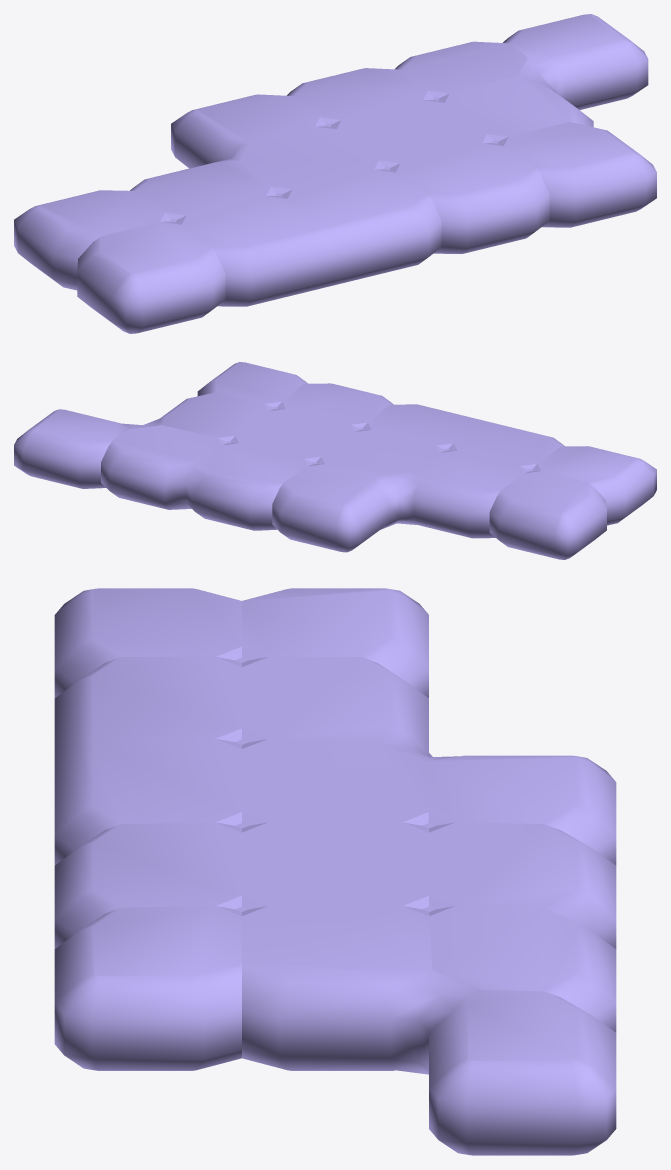
File: BG_cloud13.fbx
The picture shows the model from 3 angles, top to bottom: view 1: azimuth 30°, elevation 25°; view 2: azimuth 150°, elevation 25°; view 3: azimuth 270°, elevation 25°; orthographic projection. The views are drawn at different scales.
Parts seen in each view (by area): view 1: BG_cloud13; view 2: BG_cloud13; view 3: BG_cloud13.
Boxes of the visible parts, x1=… form: BG_cloud13: x1=14, y1=14, x2=656, y2=333; BG_cloud13: x1=14, y1=362, x2=656, y2=559; BG_cloud13: x1=54, y1=588, x2=616, y2=1155.
Size of the model in its own units: 256 by 22.48 by 121.
